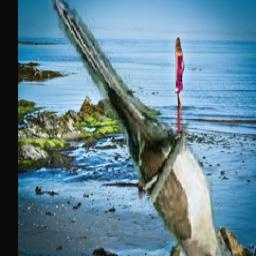Cuckoo: (49, 0, 240, 256)
